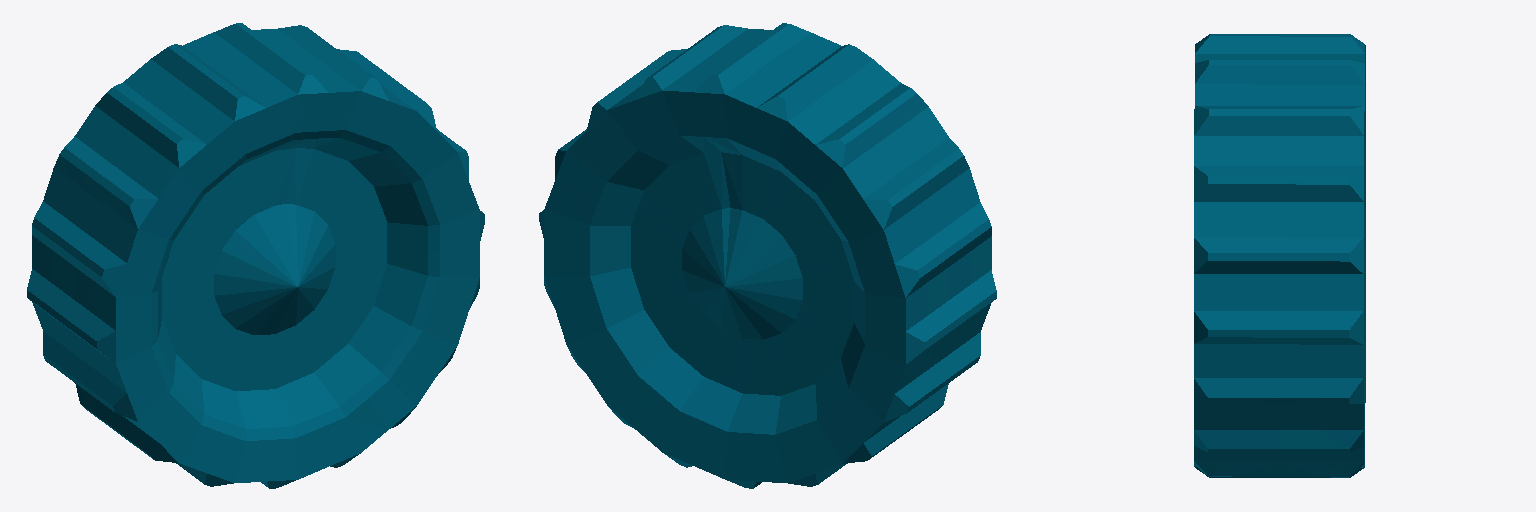
File: PlayerWheel.obj
3 renders of one model, left to right at view 1: azimuth 30°, elevation 25°; view 2: azimuth 150°, elevation 25°; view 3: azimuth 270°, elevation 25°, orthographic.
Visible parts, largest first — view 1: Wheel002; view 2: Wheel002; view 3: Wheel002.
Boxes of the visible parts, x1=… form: Wheel002: x1=27, y1=23, x2=484, y2=488; Wheel002: x1=539, y1=23, x2=996, y2=488; Wheel002: x1=1194, y1=34, x2=1365, y2=477.
Bounding box in the file's own units: 1.05 × 1.05 × 0.4064.